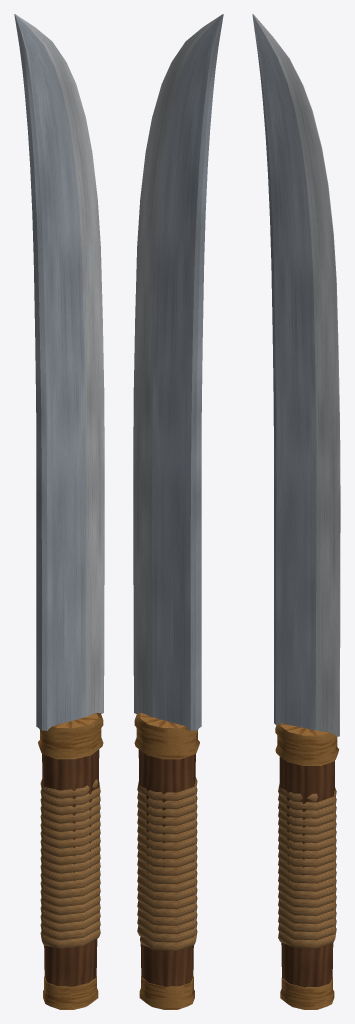
File: thai-sword-01.glb
3 views of the same model, side by side, from view 1: azimuth 30°, elevation 25°; view 2: azimuth 150°, elevation 25°; view 3: azimuth 330°, elevation 25° (orthographic). The views are drawn at different scales.
Parts seen in each view (by area): view 1: Blade, Handle Wrap, Handle, Metal Fittings; view 2: Blade, Handle Wrap, Handle, Metal Fittings; view 3: Blade, Handle Wrap, Handle, Metal Fittings.
Part boxes in pixels (<box>): Blade: <box>14,14,104,730</box>; Handle Wrap: <box>40,779,100,948</box>; Handle: <box>42,749,99,986</box>; Metal Fittings: <box>38,713,103,1009</box>; Blade: <box>133,14,223,730</box>; Handle Wrap: <box>137,777,197,951</box>; Handle: <box>138,749,195,986</box>; Metal Fittings: <box>134,713,199,1009</box>; Blade: <box>252,14,340,736</box>; Handle Wrap: <box>278,784,336,948</box>; Handle: <box>279,756,334,987</box>; Metal Fittings: <box>275,723,339,1009</box>.
Size of the model in its own units: 0.117 by 1.24 by 0.0627.
Materials: 5 (5 with a texture image).
